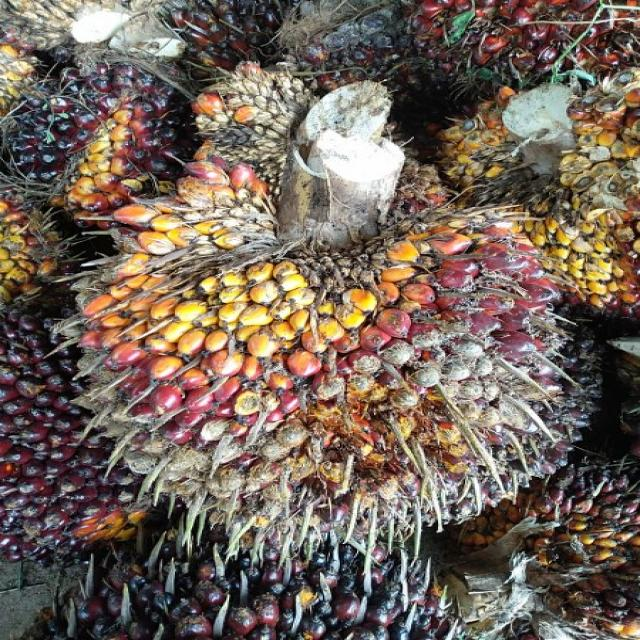fraksi 00: (0, 46, 185, 238)
fraksi 3: (49, 150, 567, 542)
